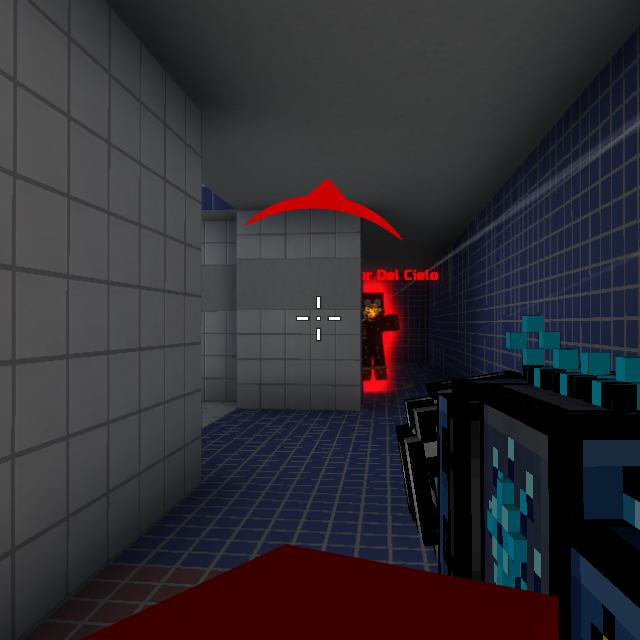Enemy: (361, 292, 398, 382)
